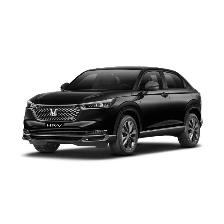NON-EV: (25, 66, 204, 154)
